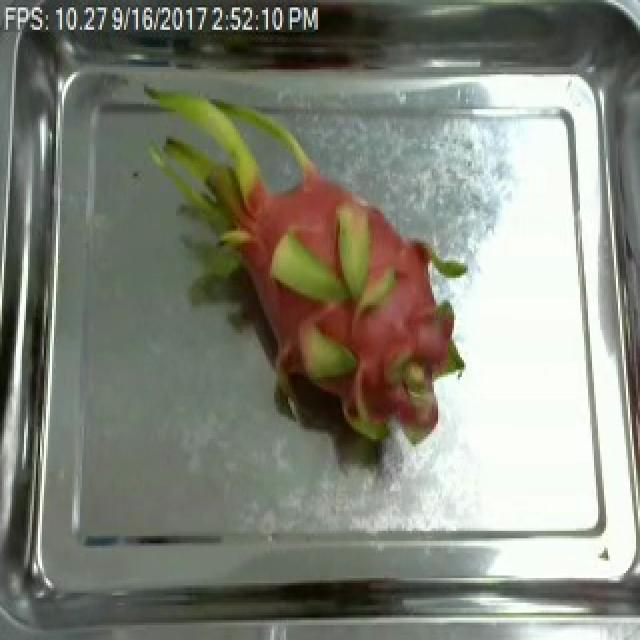fruit: (136, 67, 482, 471)
